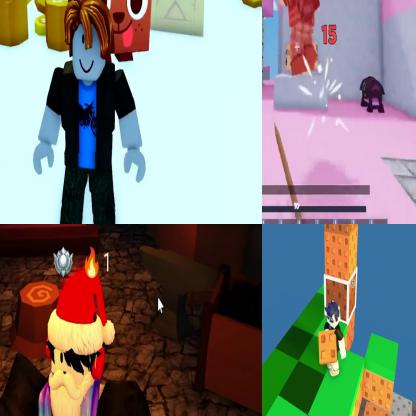Roblox-Avatar: (34, 1, 148, 224), (1, 268, 158, 416), (273, 1, 322, 78), (325, 300, 348, 378)
